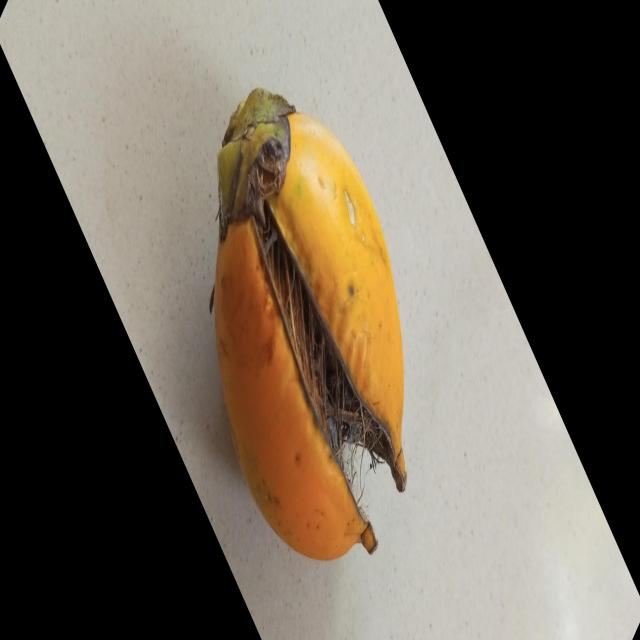damaged: (209, 89, 407, 561)
